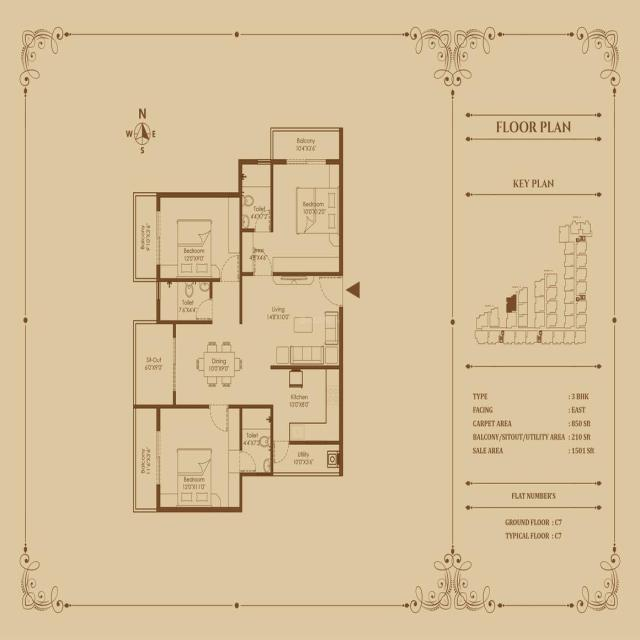Balcony-Sitout: (133, 321, 175, 407), (132, 190, 159, 284), (133, 406, 155, 514), (271, 128, 341, 161)
Bedroom: (156, 405, 243, 513), (155, 193, 243, 282)
Bedroom with Toilet: (239, 160, 343, 272)
Dining: (195, 340, 243, 389)
Enterance-Foyer: (315, 274, 362, 308)
Kitchen: (270, 366, 342, 444)
Living: (239, 272, 343, 369)
Toilet: (155, 277, 214, 325), (239, 160, 273, 233), (239, 403, 273, 476)
Utility: (277, 441, 342, 476)
